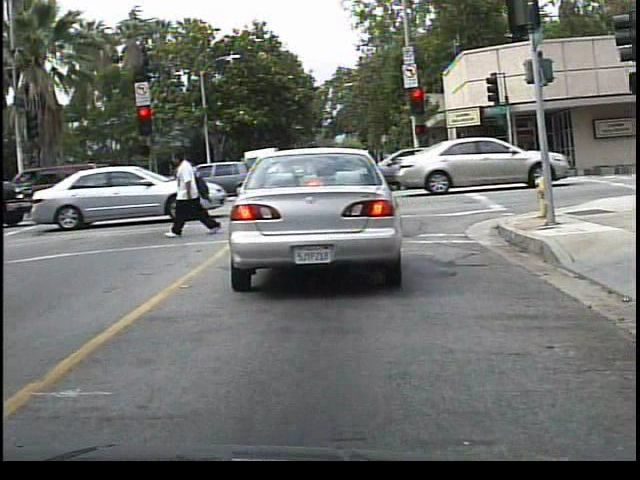person: (170, 150, 221, 242)
